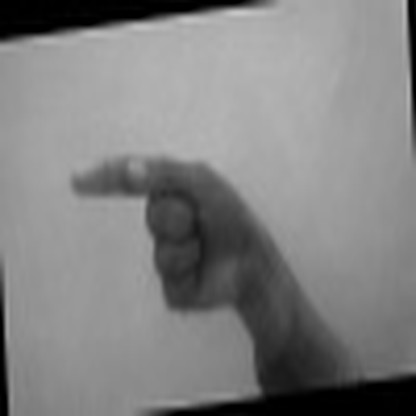g: (64, 141, 264, 315)
